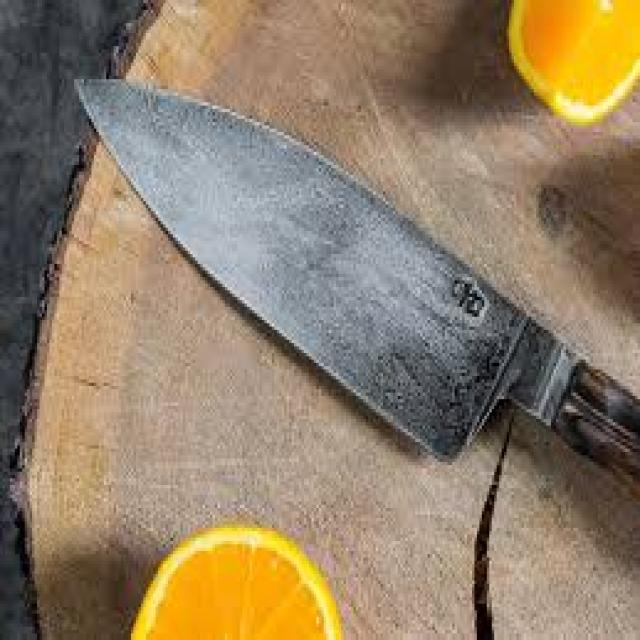Knife: (74, 76, 638, 501)
